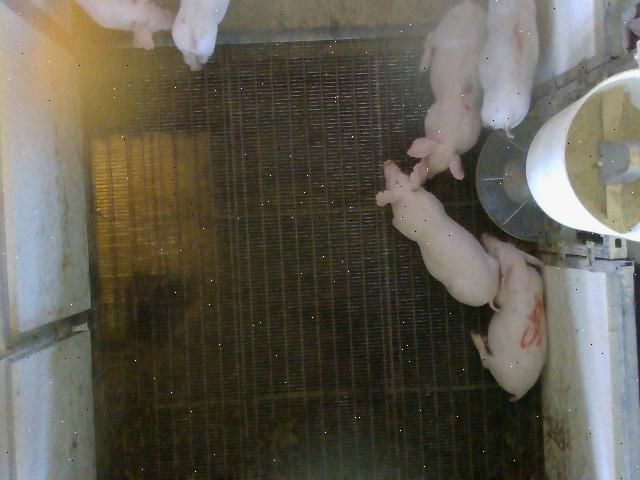pig-1: (480, 1, 540, 138)
pig-3: (408, 2, 486, 180)
pig-5: (471, 234, 546, 400)
